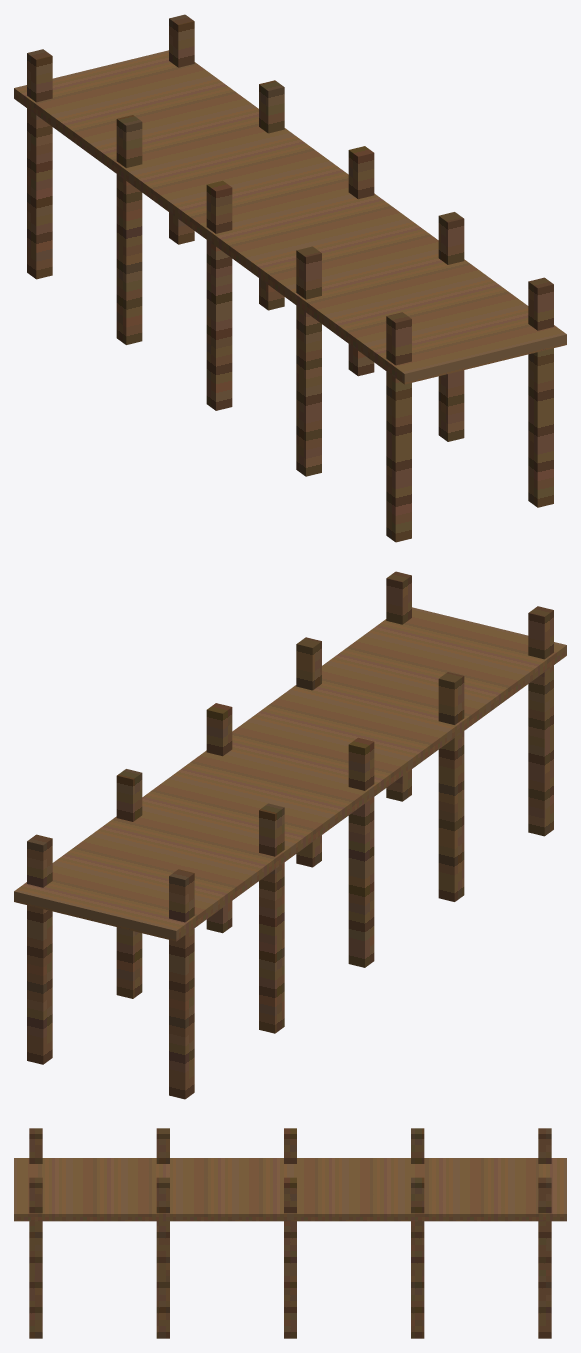
File: muelle.glb
3 views of the same model, one above another, from view 1: azimuth 30°, elevation 25°; view 2: azimuth 150°, elevation 25°; view 3: azimuth 270°, elevation 25° (orthographic). The views are drawn at different scales.
Visible parts, largest first — view 1: muelle; view 2: muelle; view 3: muelle.
Boxes of the visible parts, x1,y1,x2,y2 form: muelle: (14, 14, 566, 542); muelle: (14, 571, 566, 1099); muelle: (14, 1128, 566, 1338).
Size of the model in its own units: 2.4 by 3.1 by 10.
Materials: 1 (1 with a texture image).
